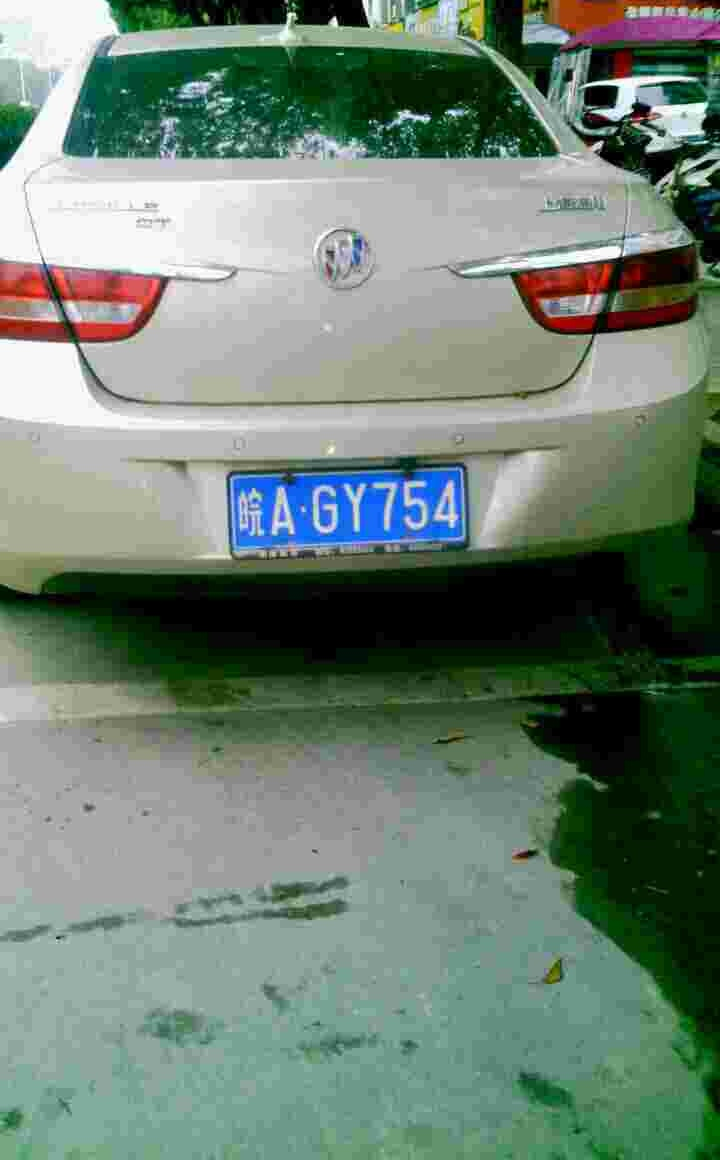license_plate: (236, 470, 466, 548)
